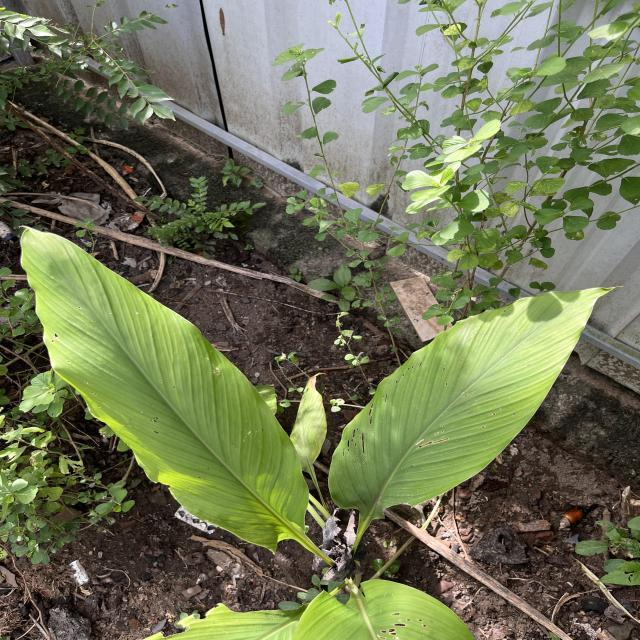Curcuma longa: (11, 220, 314, 559), (323, 282, 624, 526)
